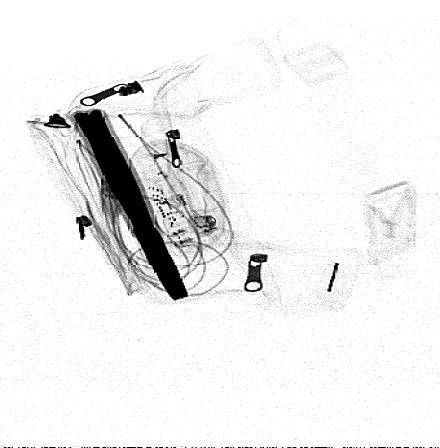Pliers: (69, 104, 194, 305)
